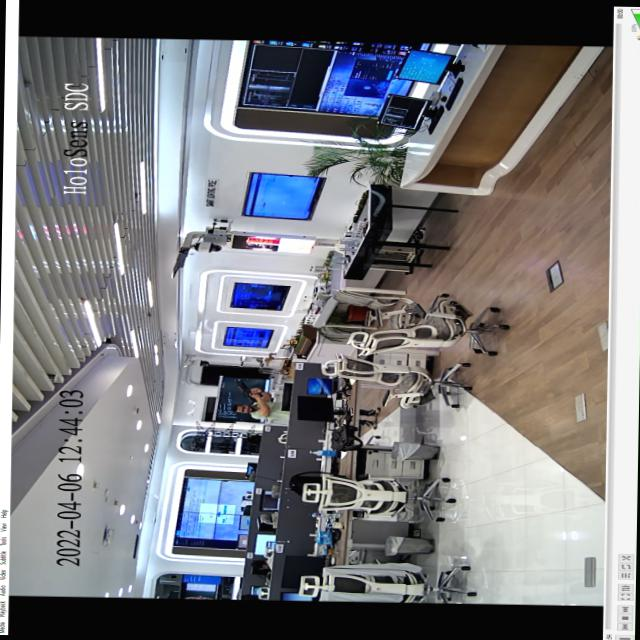long weapon: (226, 372, 272, 407)
